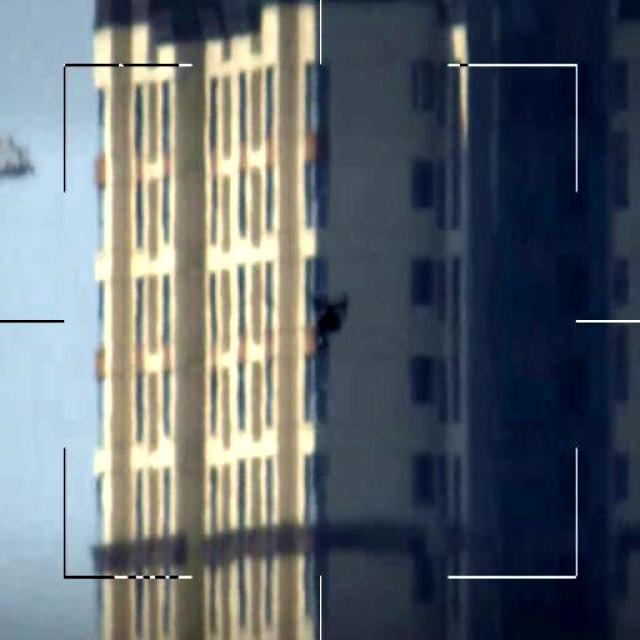bird: (309, 282, 358, 354)
